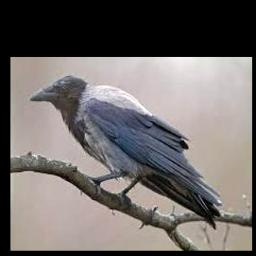Crow: (29, 74, 222, 229)
